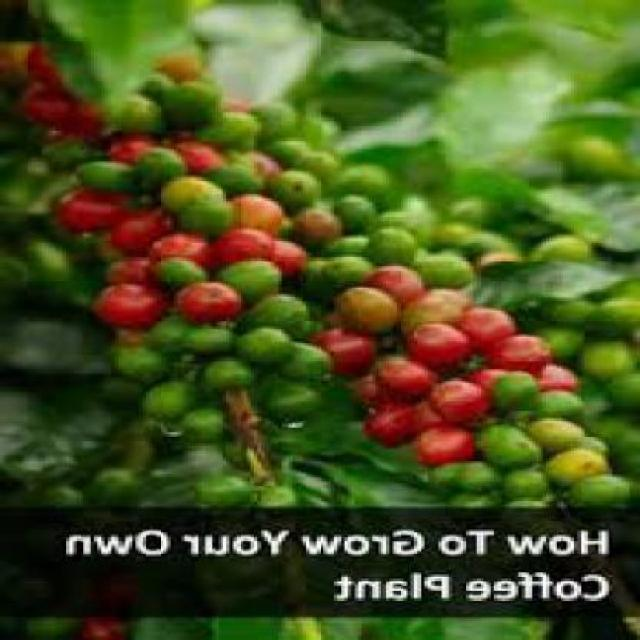RIPE: (105, 257, 566, 428)
